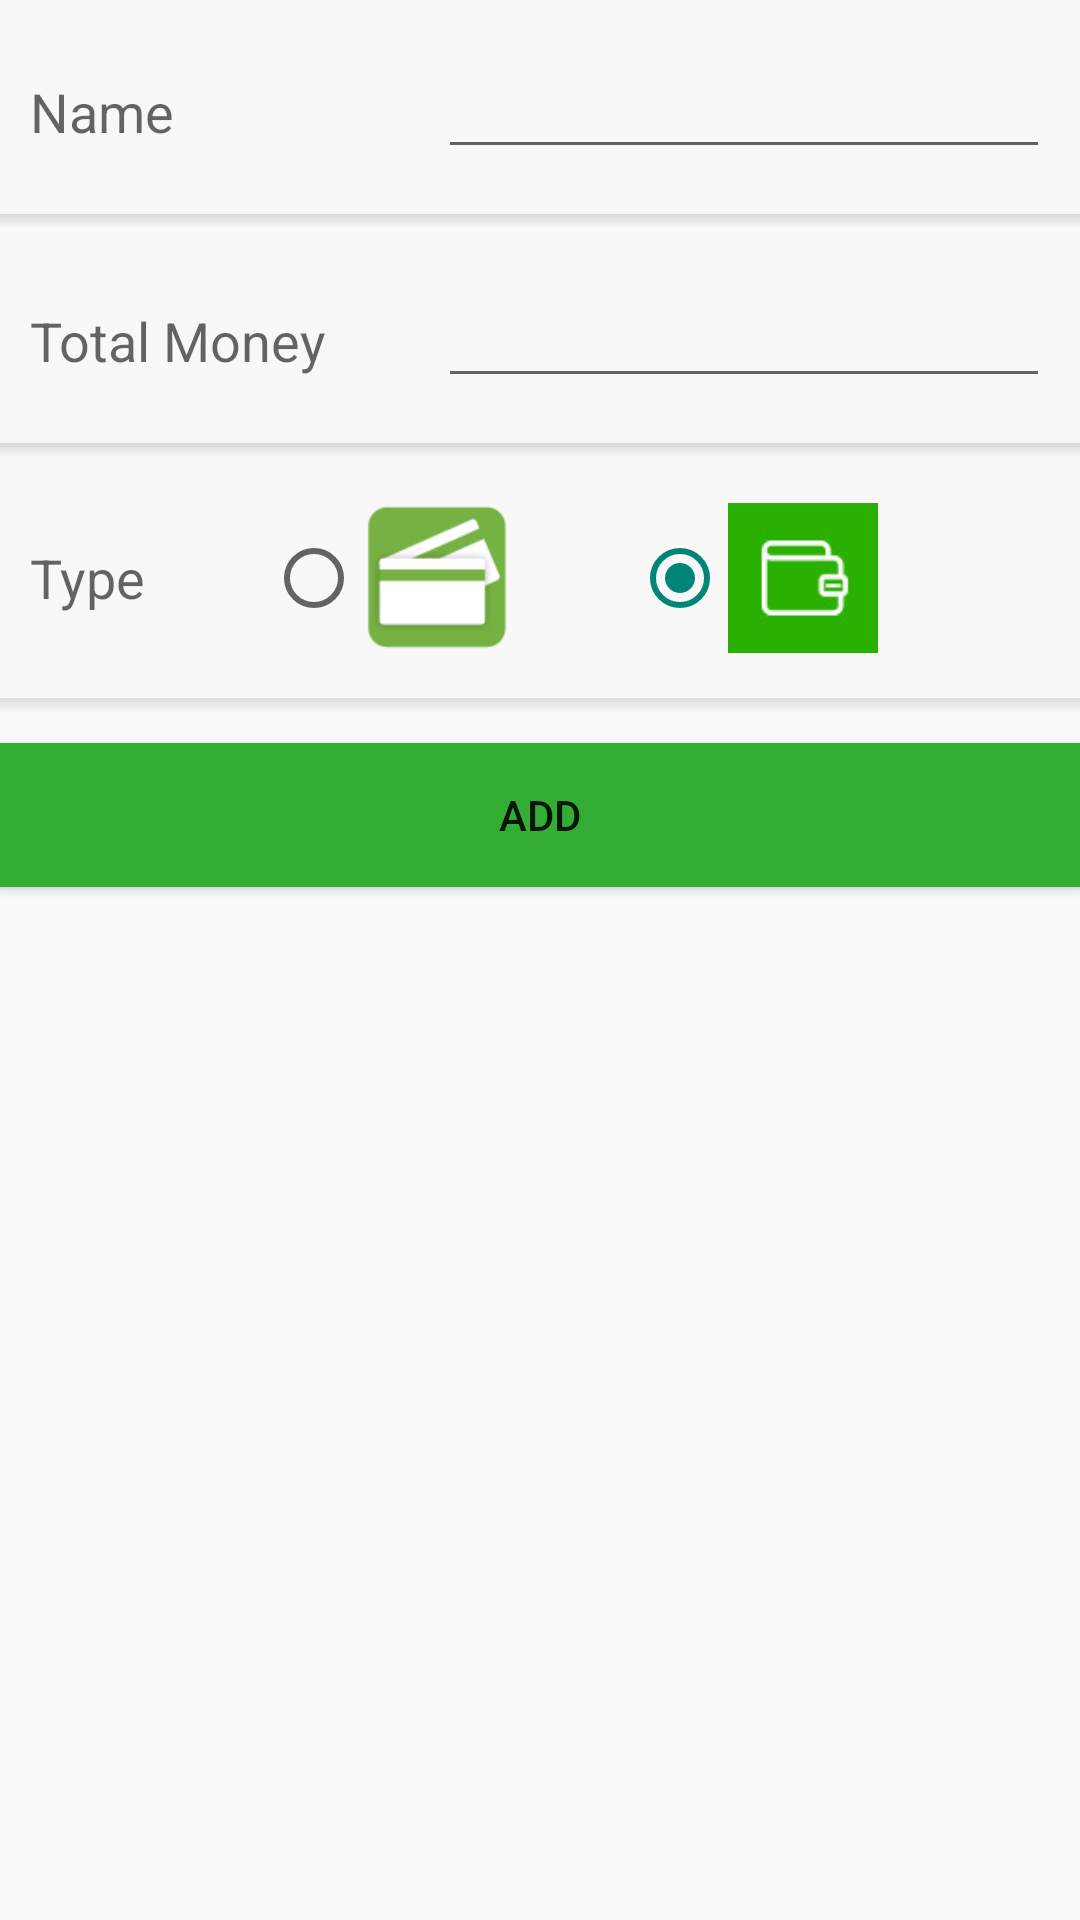

Locate icon controls on the screen. Image size 1080*1920, boxes as (x1, y1, x2, y2).
cash: (728, 503, 878, 653)
